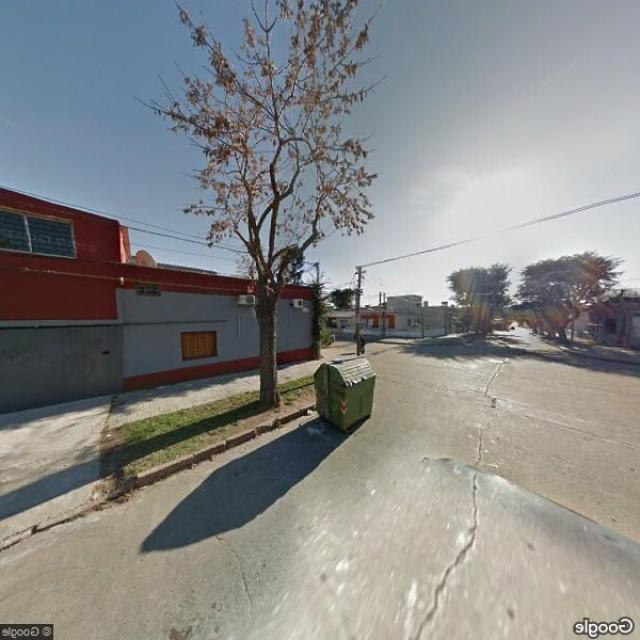garbage container: (300, 350, 384, 436)
